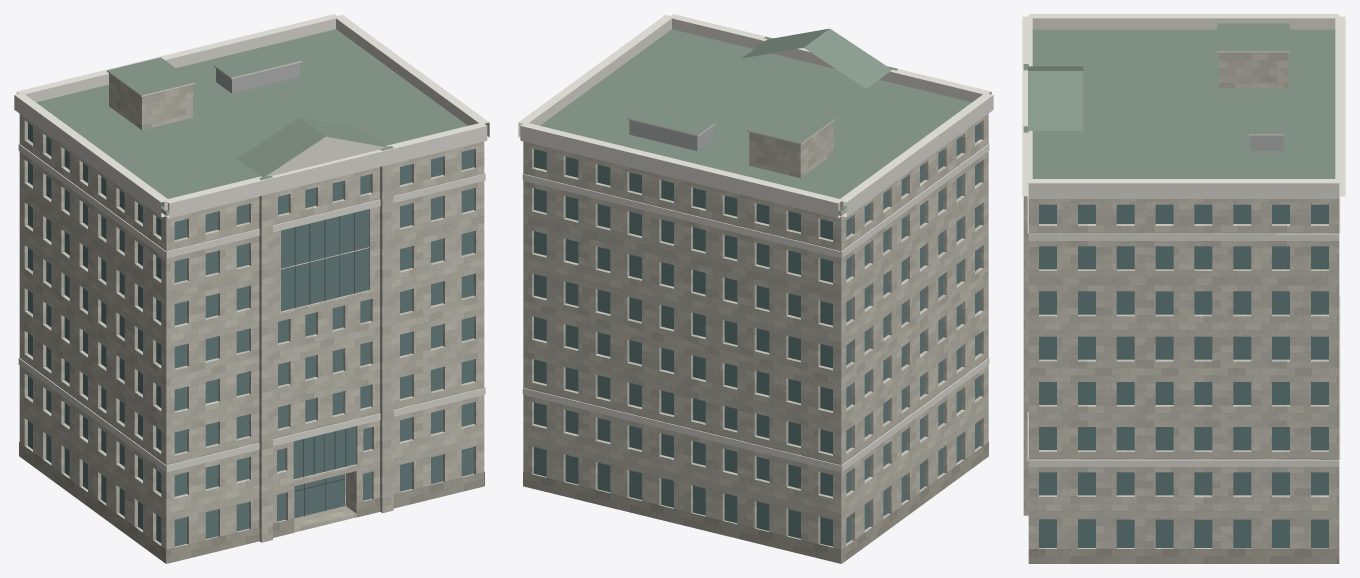
3 renders of one model, left to right at view 1: azimuth 30°, elevation 25°; view 2: azimuth 150°, elevation 25°; view 3: azimuth 270°, elevation 25°, orthographic. The views are drawn at different scales.
Visible parts, largest first — view 1: law__wall, law__glass, law__roof, law__trim, law__base, law__roofMetal, law__frame; view 2: law__wall, law__roof, law__glass, law__trim, law__base, law__roofMetal; view 3: law__wall, law__roof, law__glass, law__trim, law__base, law__roofMetal.
Boxes of the visible parts, x1=… form: law__wall: x1=19, y1=73, x2=484, y2=563; law__glass: x1=28, y1=123, x2=473, y2=546; law__roof: x1=36, y1=29, x2=467, y2=211; law__trim: x1=14, y1=14, x2=489, y2=472; law__base: x1=19, y1=442, x2=484, y2=563; law__roofMetal: x1=216, y1=62, x2=299, y2=93; law__frame: x1=281, y1=212, x2=368, y2=516; law__wall: x1=523, y1=38, x2=988, y2=563; law__roof: x1=540, y1=28, x2=971, y2=211; law__glass: x1=534, y1=123, x2=980, y2=546; law__trim: x1=518, y1=14, x2=993, y2=472; law__base: x1=523, y1=442, x2=988, y2=563; law__roofMetal: x1=629, y1=120, x2=713, y2=150; law__wall: x1=1023, y1=52, x2=1339, y2=548; law__roof: x1=1023, y1=23, x2=1335, y2=178; law__glass: x1=1039, y1=204, x2=1328, y2=548; law__trim: x1=1022, y1=14, x2=1345, y2=466; law__base: x1=1028, y1=549, x2=1339, y2=563; law__roofMetal: x1=1250, y1=135, x2=1283, y2=150.
Bounding box in the file's own units: 28.92 × 32.7 × 23.32.
8 materials, 2 textured.
